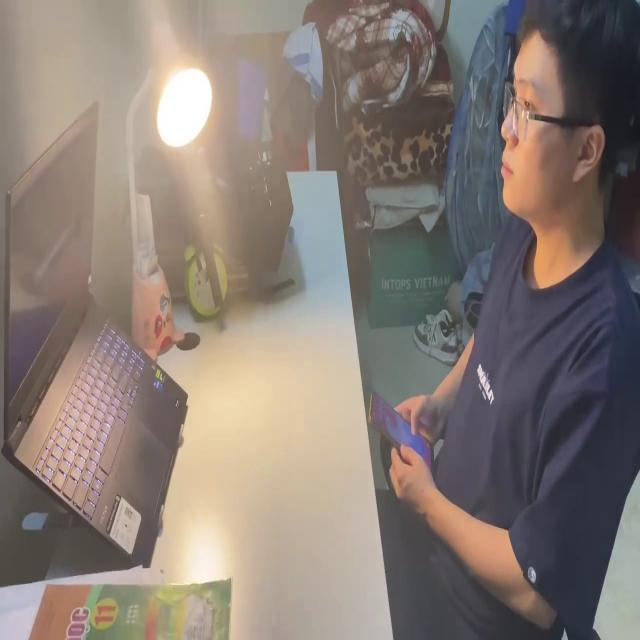book: (0, 557, 230, 640)
laptop: (0, 95, 190, 561)
phone: (364, 386, 437, 471)
student: (372, 0, 640, 640)
